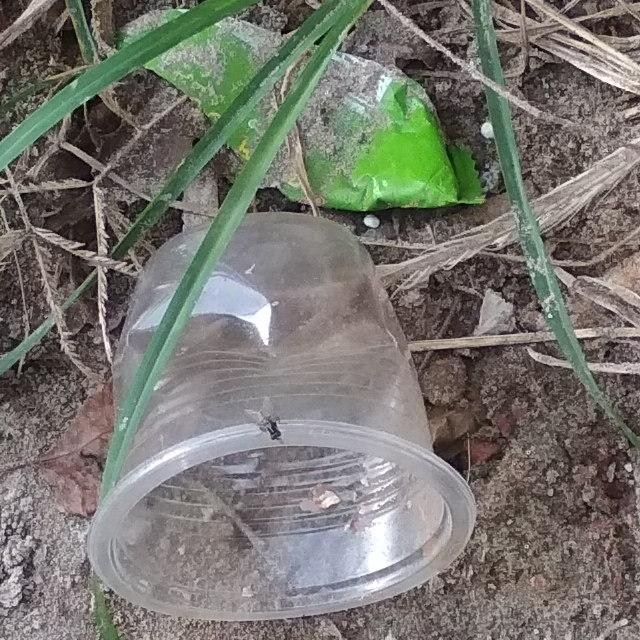plastic: (26, 203, 523, 640)
